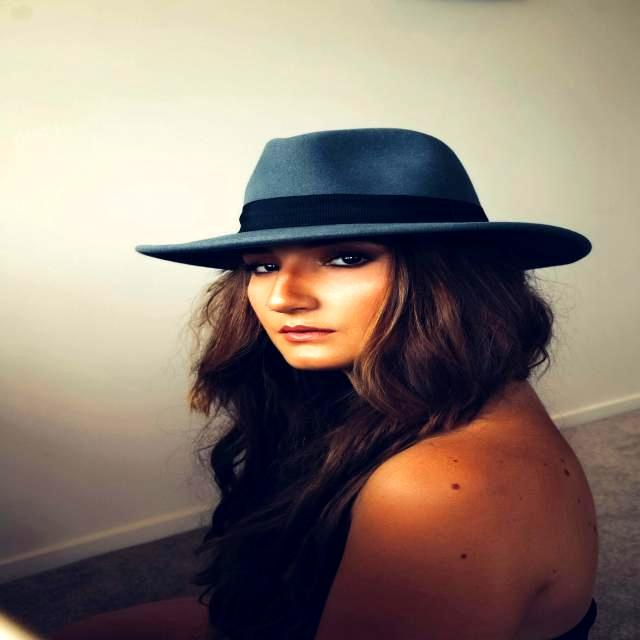no_hard_hat: (136, 128, 591, 270)
person: (57, 129, 598, 640)
